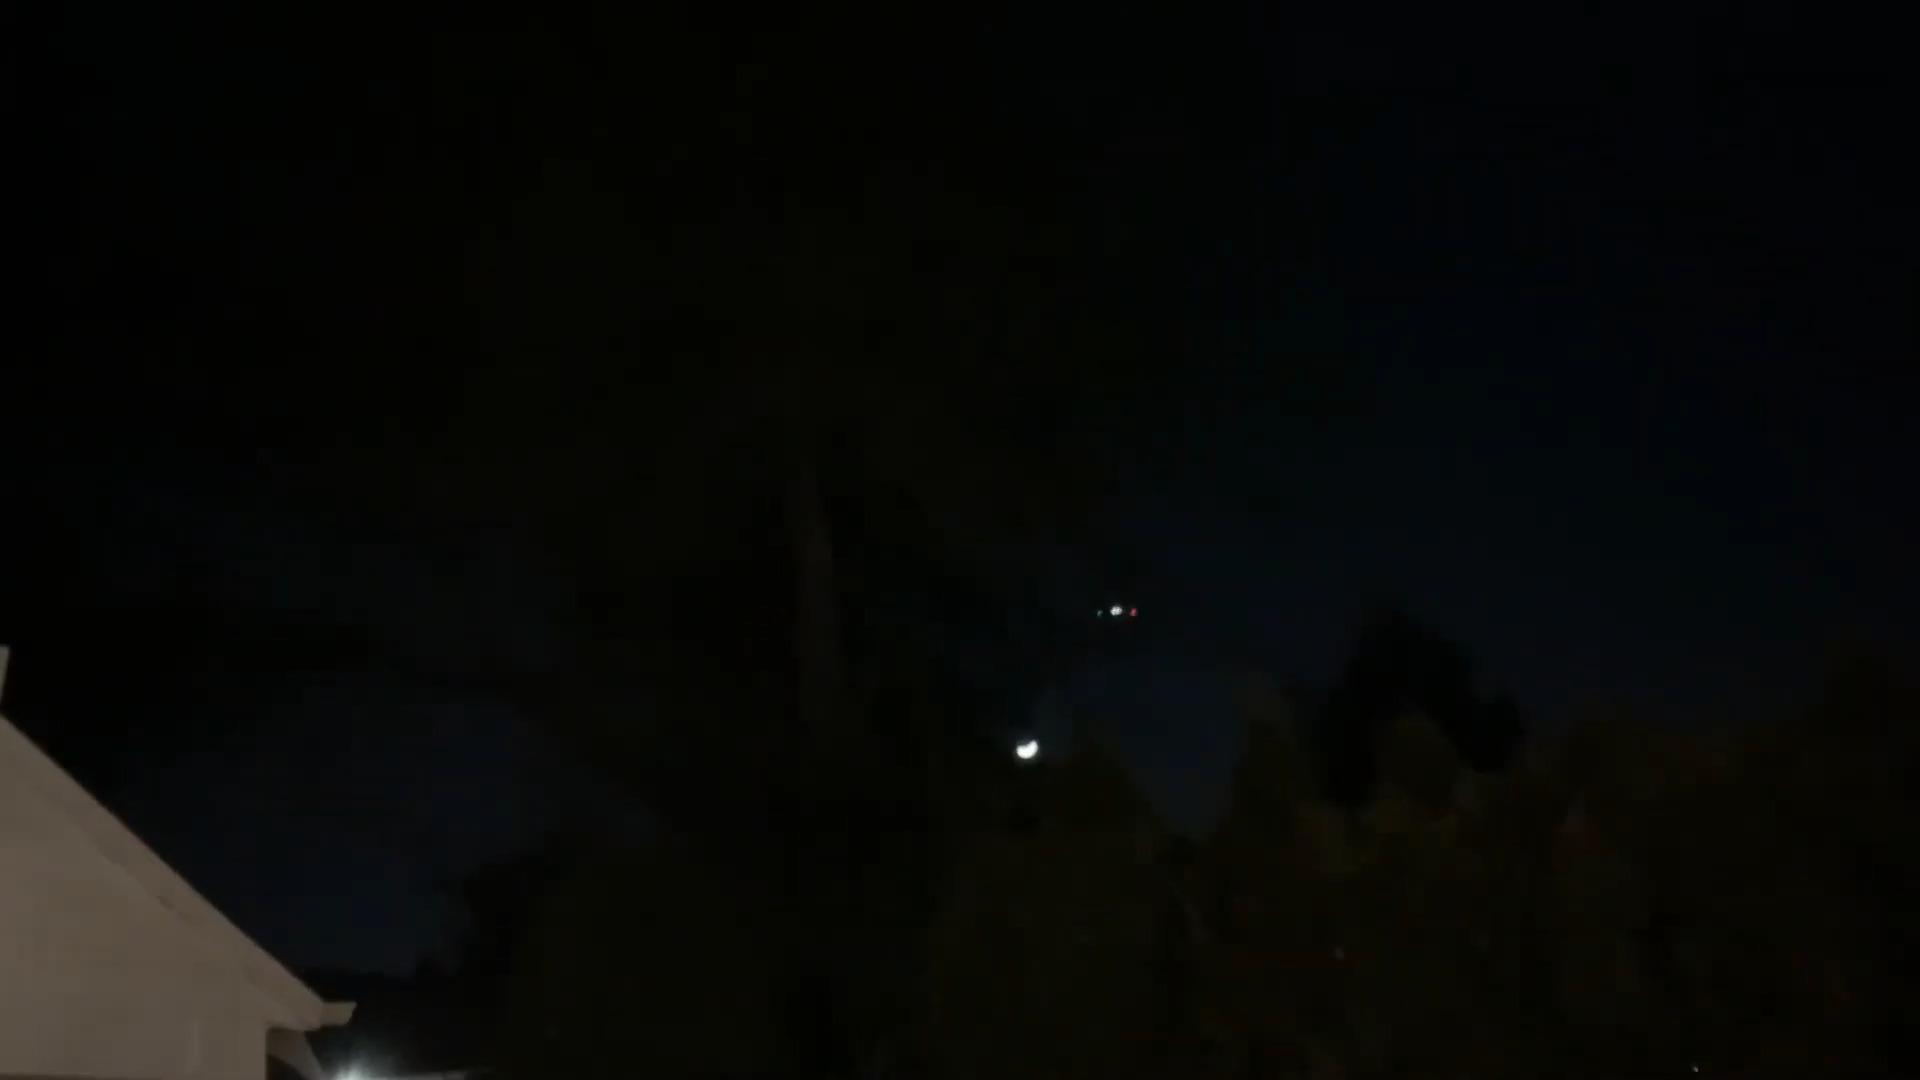Plane: (1077, 593, 1182, 636)
